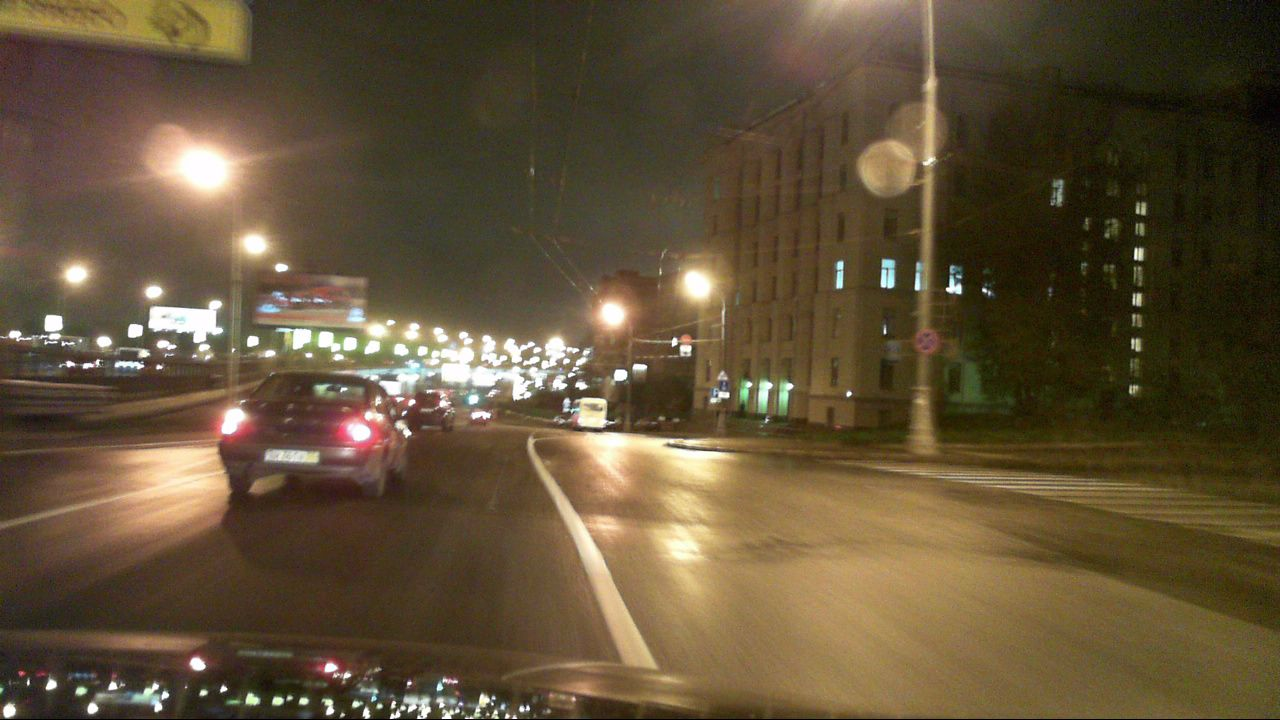No Parking: (912, 330, 939, 358)
